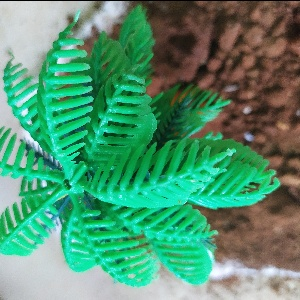plant: (2, 21, 250, 288)
